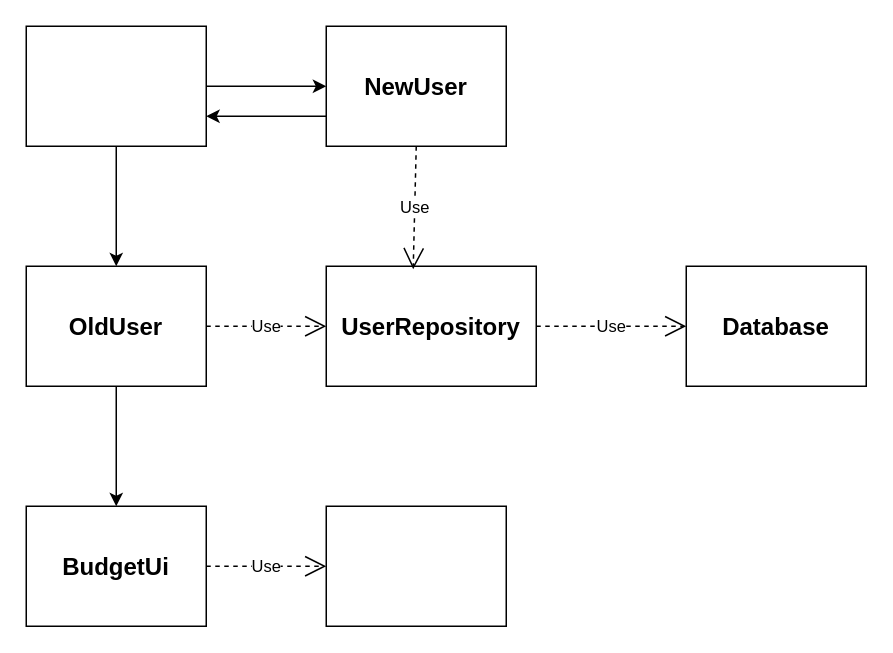
Image size: 893x653. Some labels were removed from this diagram. The shapes that lost their labels are listed below. From the top down, each one's centre as x and y in pixels, then its label:
(x=115, y=85): Start
(x=415, y=565): Budget
